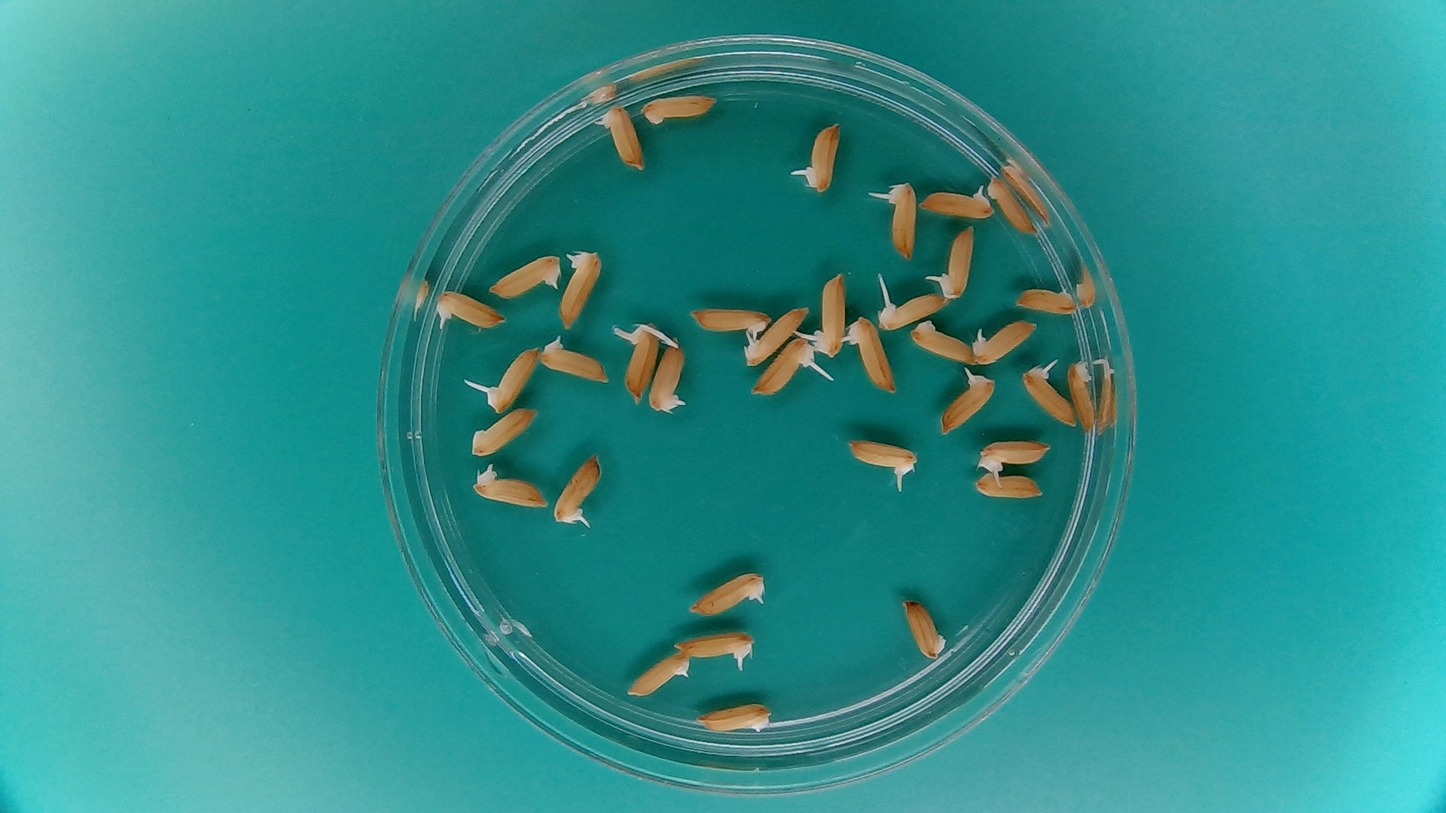no: (897, 594, 951, 663), (471, 403, 538, 458), (985, 174, 1037, 236), (691, 698, 775, 736), (909, 318, 976, 362), (638, 92, 720, 126), (1064, 356, 1097, 435), (971, 467, 1044, 501), (1012, 279, 1078, 315)
yes: (844, 312, 899, 397), (683, 568, 771, 617), (937, 365, 998, 434), (741, 306, 803, 370), (484, 342, 541, 410), (1018, 364, 1077, 429), (667, 629, 758, 671), (487, 251, 563, 300), (646, 333, 689, 418), (623, 648, 693, 700), (553, 455, 603, 527), (431, 287, 508, 333), (754, 339, 815, 397), (931, 223, 975, 302), (619, 320, 660, 400), (972, 316, 1040, 364), (541, 337, 609, 385), (560, 250, 603, 325), (471, 470, 550, 510), (850, 435, 921, 478), (917, 182, 994, 221), (689, 302, 774, 335), (875, 293, 950, 330), (602, 106, 644, 169), (816, 276, 848, 358), (886, 180, 918, 260), (805, 120, 840, 193), (978, 437, 1047, 469)
